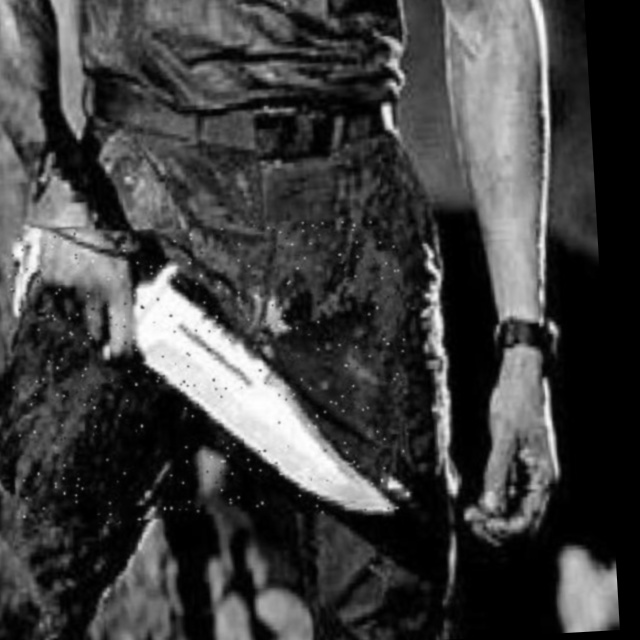Sharp-Object: (5, 215, 414, 530)
